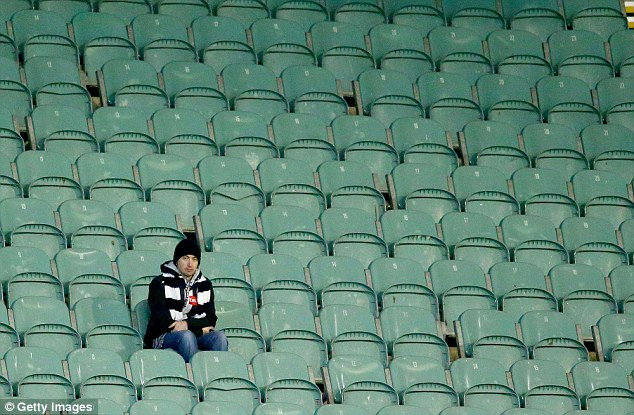Person: (145, 239, 229, 351)
